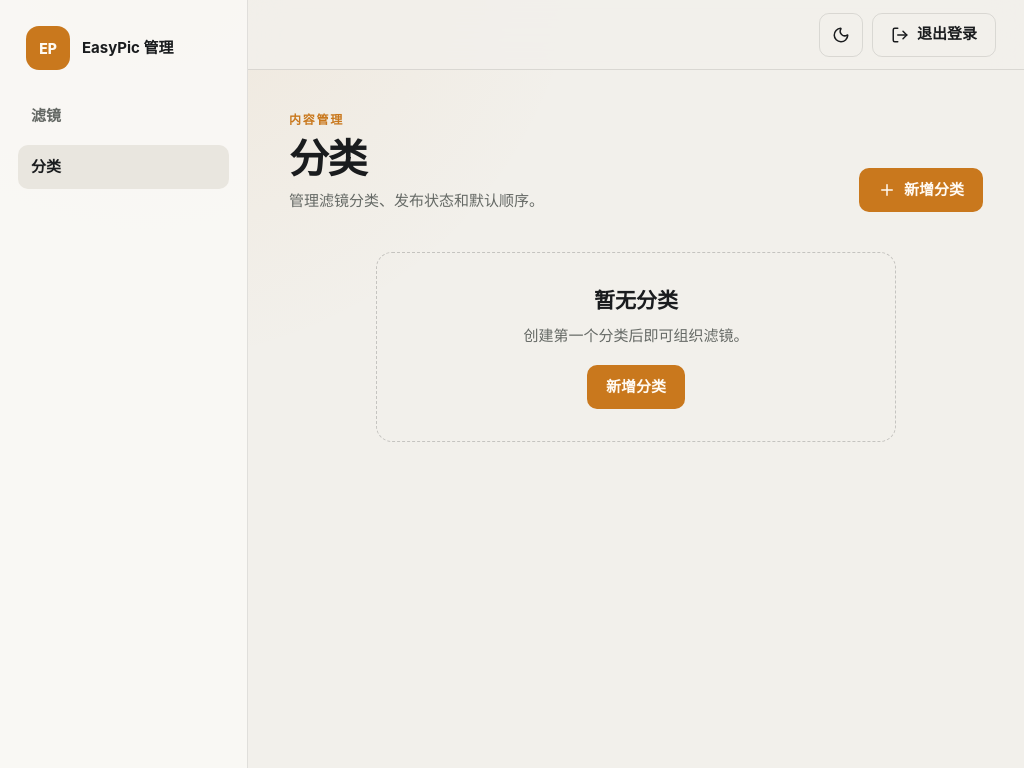
Test: category form mutations › normalizes create input and refreshes categories while invalidating filters
Expected: the heading "暂无分类" is shown, [594,288,678,314]
Click the button "新增分类" in the row of "管理滤镜分类、发布状态和默认顺序。": (921, 190) [859,168,983,212]
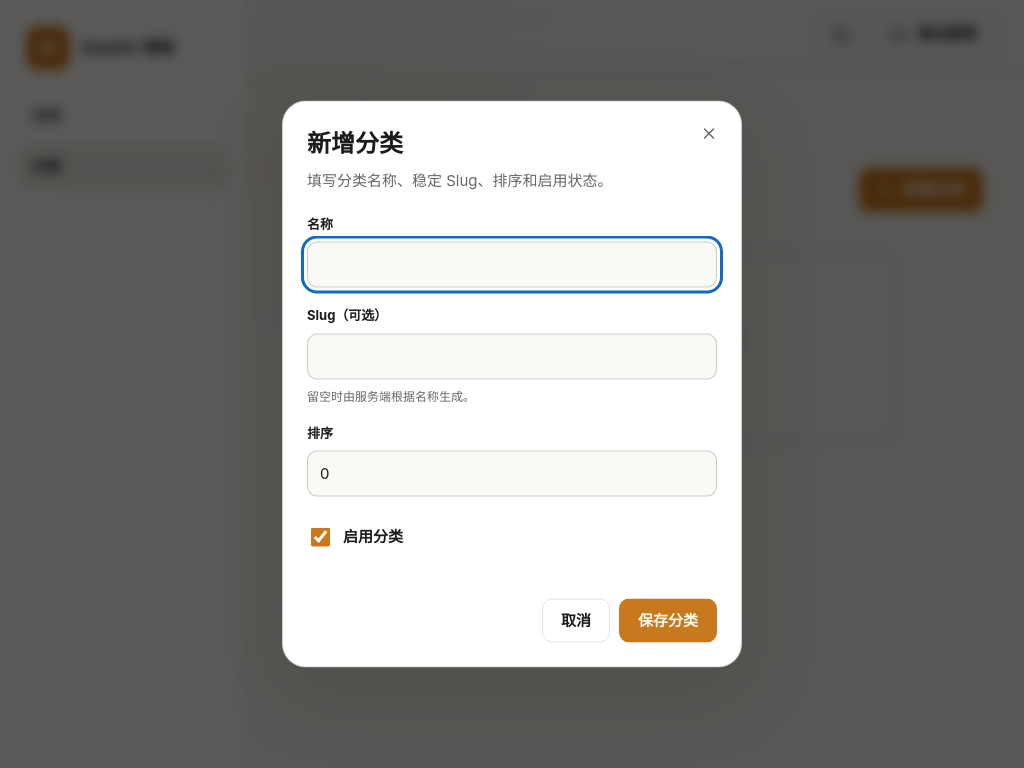
In the field labelled "名称": (512, 264) [307,242,717,288], type "  Film Lab  "
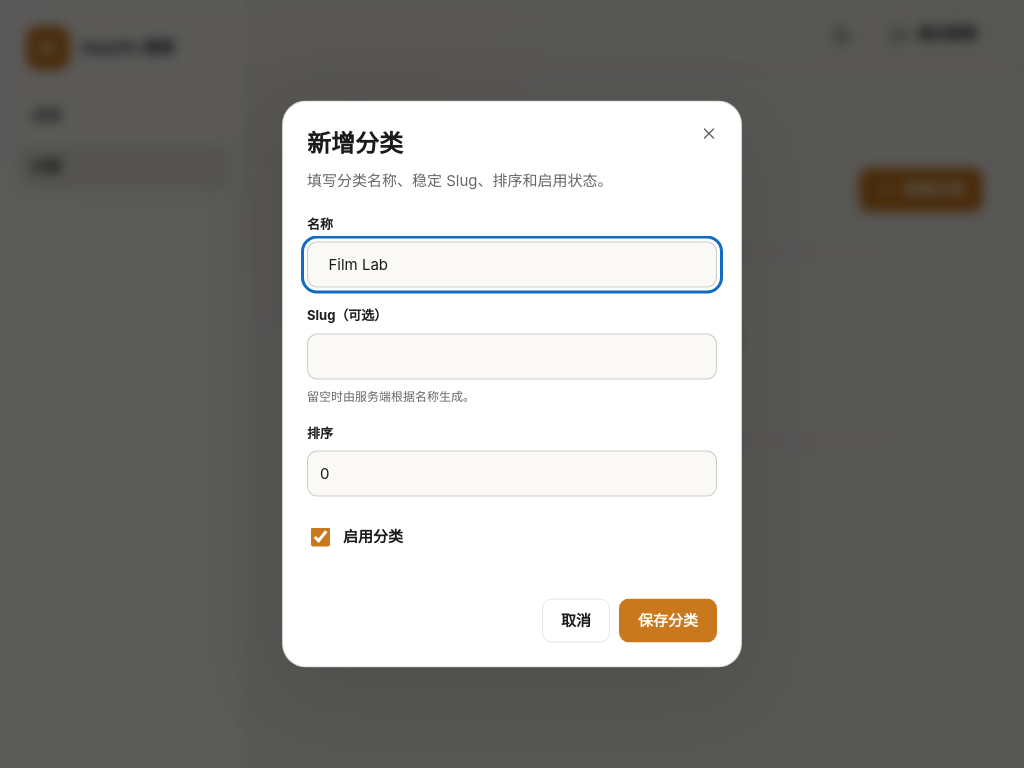
In the field labelled "Slug（可选）": (512, 356) [307,333,717,379], type "  film-lab  "
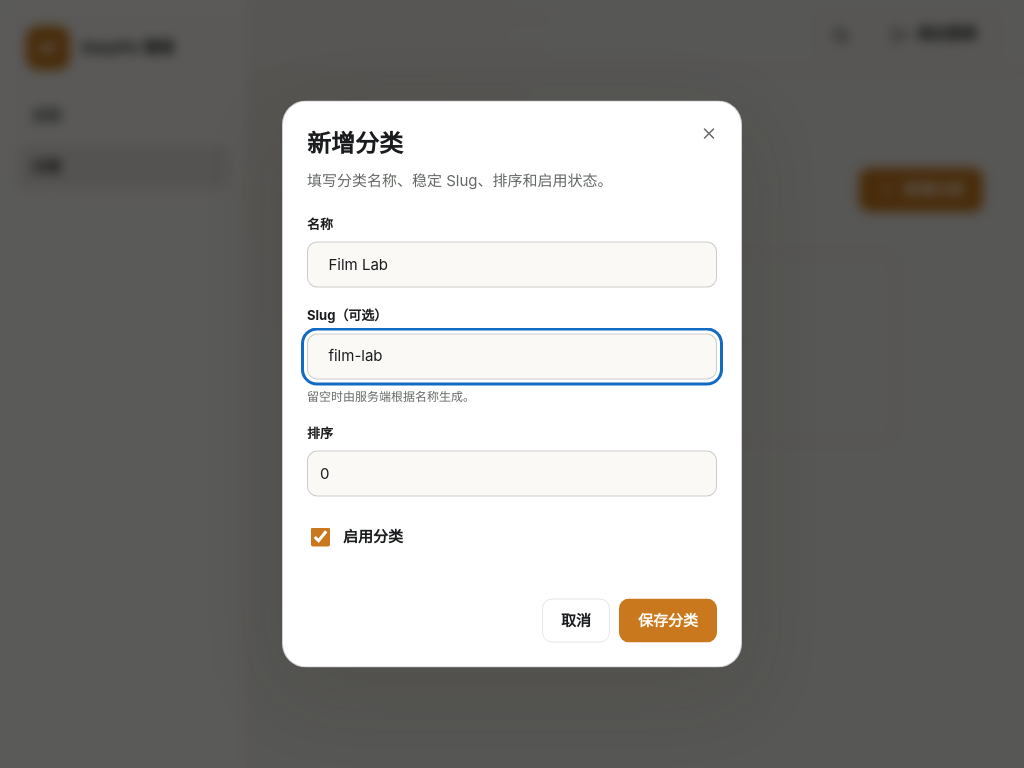
Replace the text in the number field labelled "排序" with "2": (512, 474) [307,450,717,496]
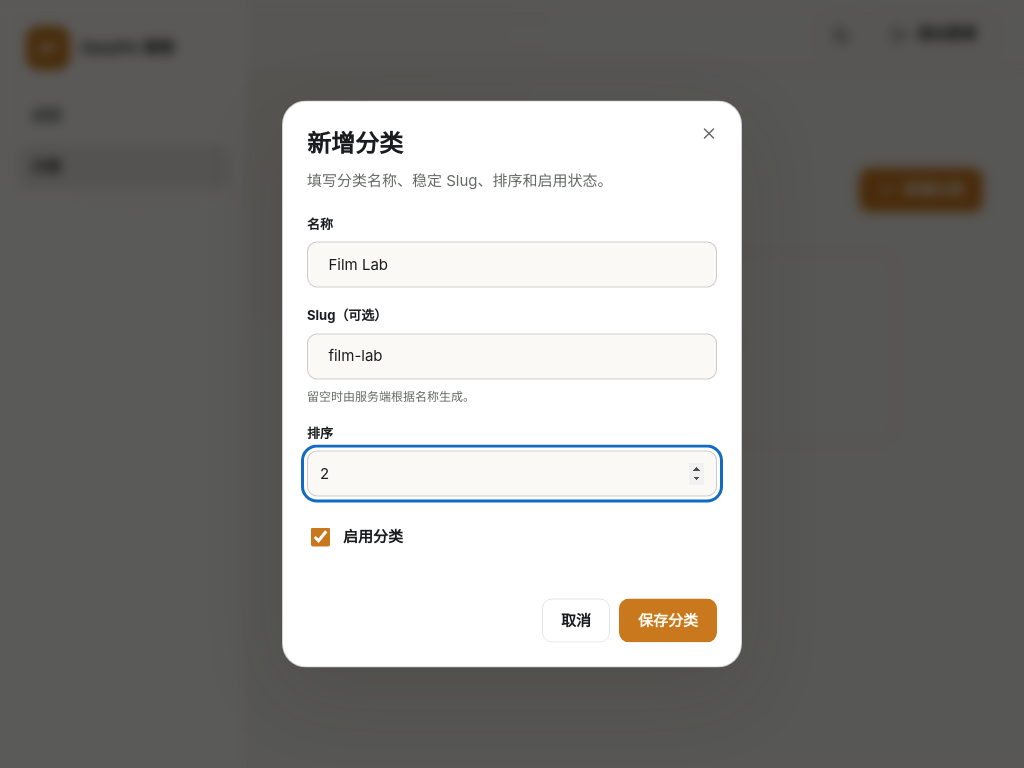
Click the button "保存分类": (668, 620) [619,598,717,642]
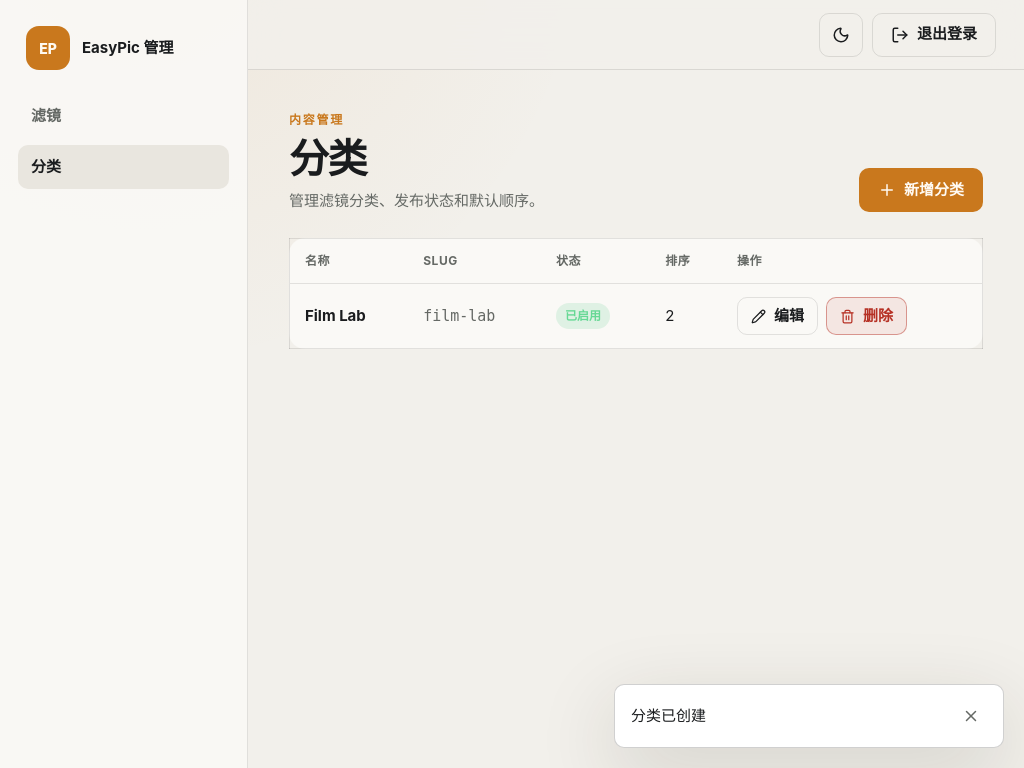
Expected: the text "分类已创建" is shown, [631,705,706,727]
